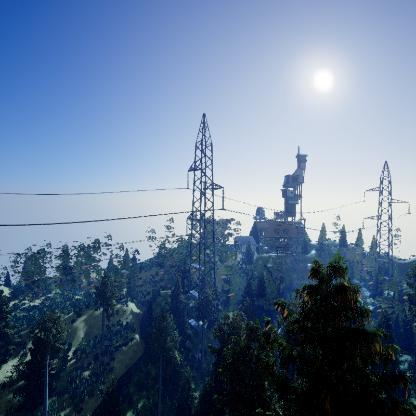tower: (183, 110, 227, 333), (361, 157, 413, 292)
